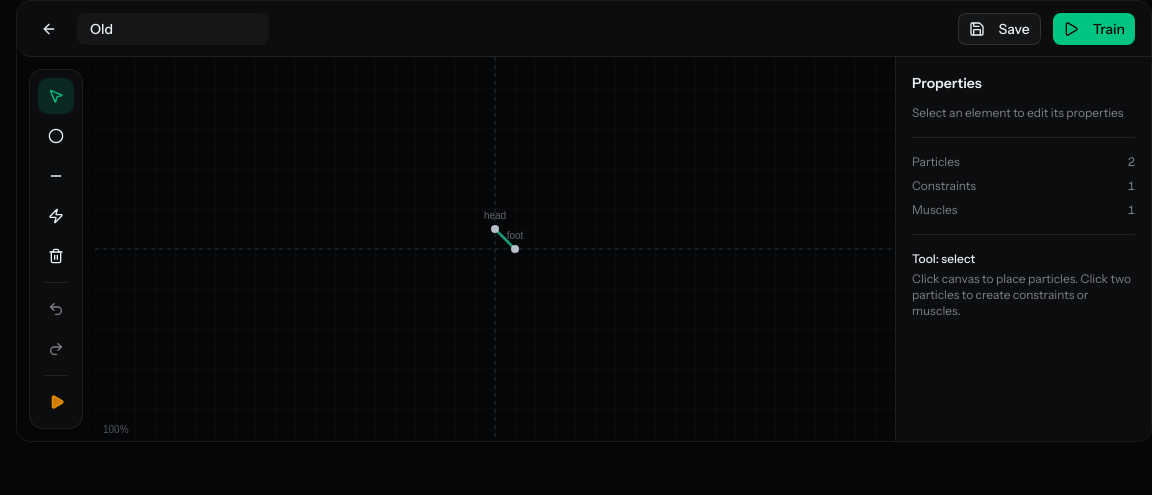
Scenario: does not navigate when saving fails (network)
The width and height of the screenshot is (1152, 495).
Click the button "Train". click: coordinates (1094, 28)
box: [1053,12,1135,44]
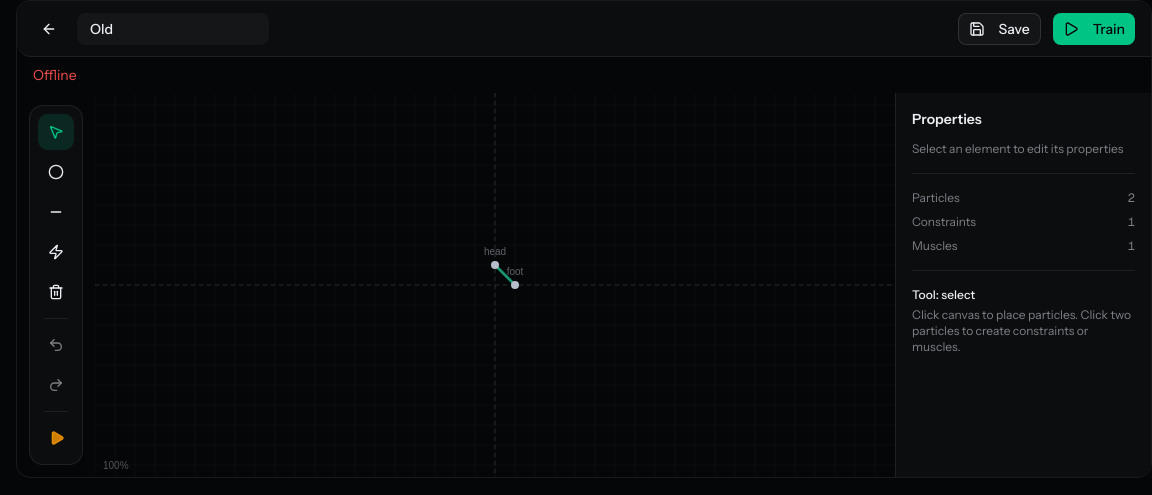
Expected: the message "Offline" is shown, [33,66,77,84]
